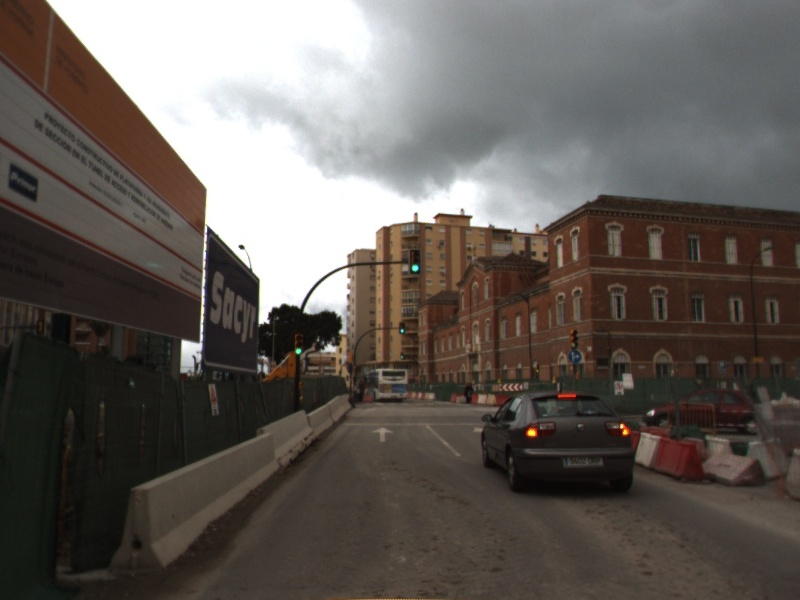STRAIGHT: (369, 426, 396, 444)
